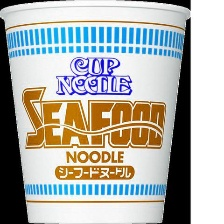paper_cup: (0, 0, 190, 224)
